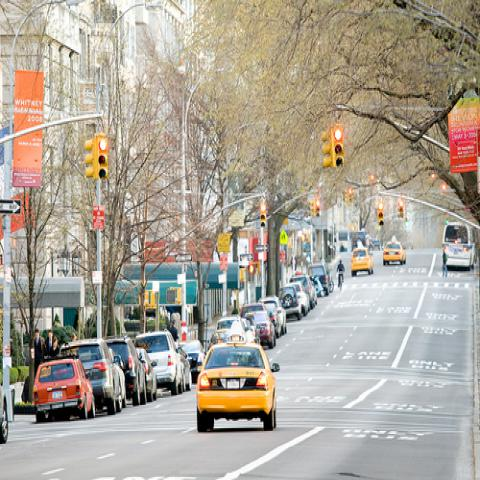bus: (443, 221, 477, 269)
car: (115, 220, 479, 410), (196, 343, 280, 435), (58, 338, 123, 413), (33, 355, 98, 421), (132, 329, 184, 394), (104, 333, 148, 407), (244, 310, 276, 350), (178, 339, 206, 384), (137, 348, 158, 402), (258, 297, 287, 336), (279, 286, 302, 320), (351, 246, 374, 275), (0, 381, 9, 447), (383, 241, 407, 265)
